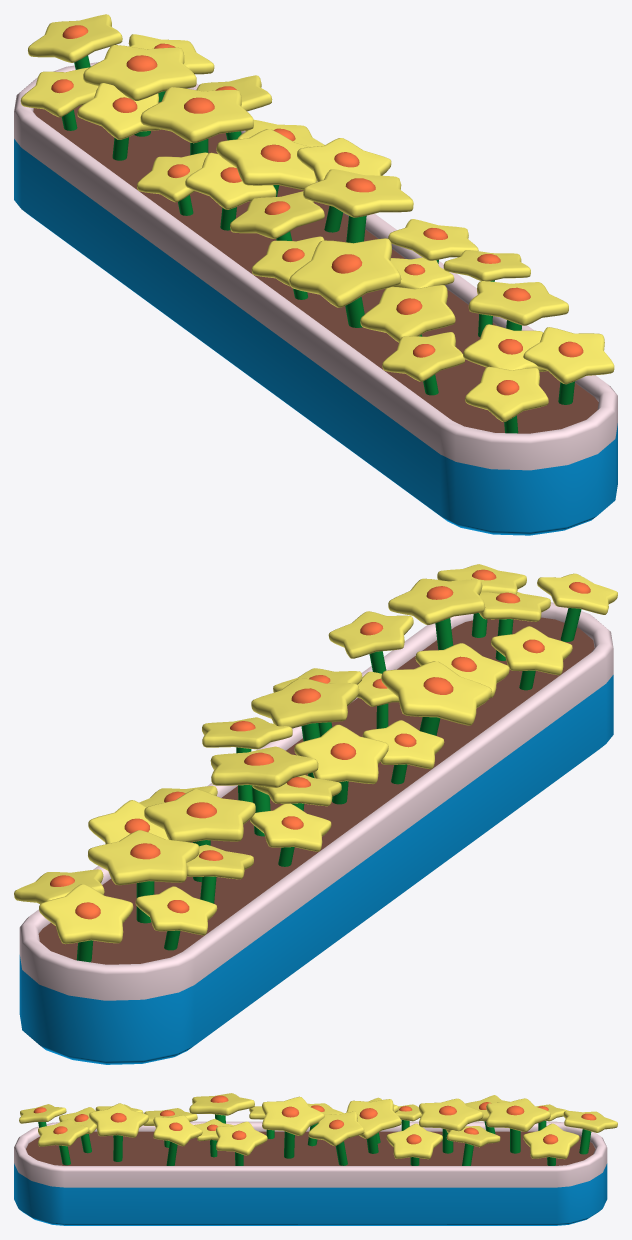
Rendered from Store_6_Plant_1.glb.
The picture shows the model from 3 angles, top to bottom: view 1: azimuth 30°, elevation 25°; view 2: azimuth 150°, elevation 25°; view 3: azimuth 270°, elevation 25°; orthographic projection. The views are drawn at different scales.
Visible parts, largest first — view 1: Store_6_Plant_1; view 2: Store_6_Plant_1; view 3: Store_6_Plant_1.
Part boxes in pixels (x1,y1,x2,y2): Store_6_Plant_1: [14, 14, 617, 535]; Store_6_Plant_1: [14, 564, 617, 1064]; Store_6_Plant_1: [14, 1093, 617, 1225].
Size of the model in its own units: 0.9155 by 0.8039 by 4.28.
1 material, 1 textured.
